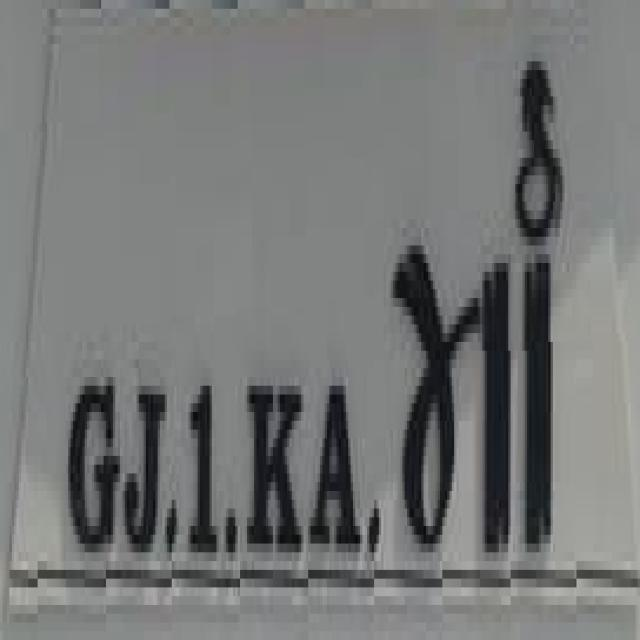license_plate: (28, 0, 640, 579)
